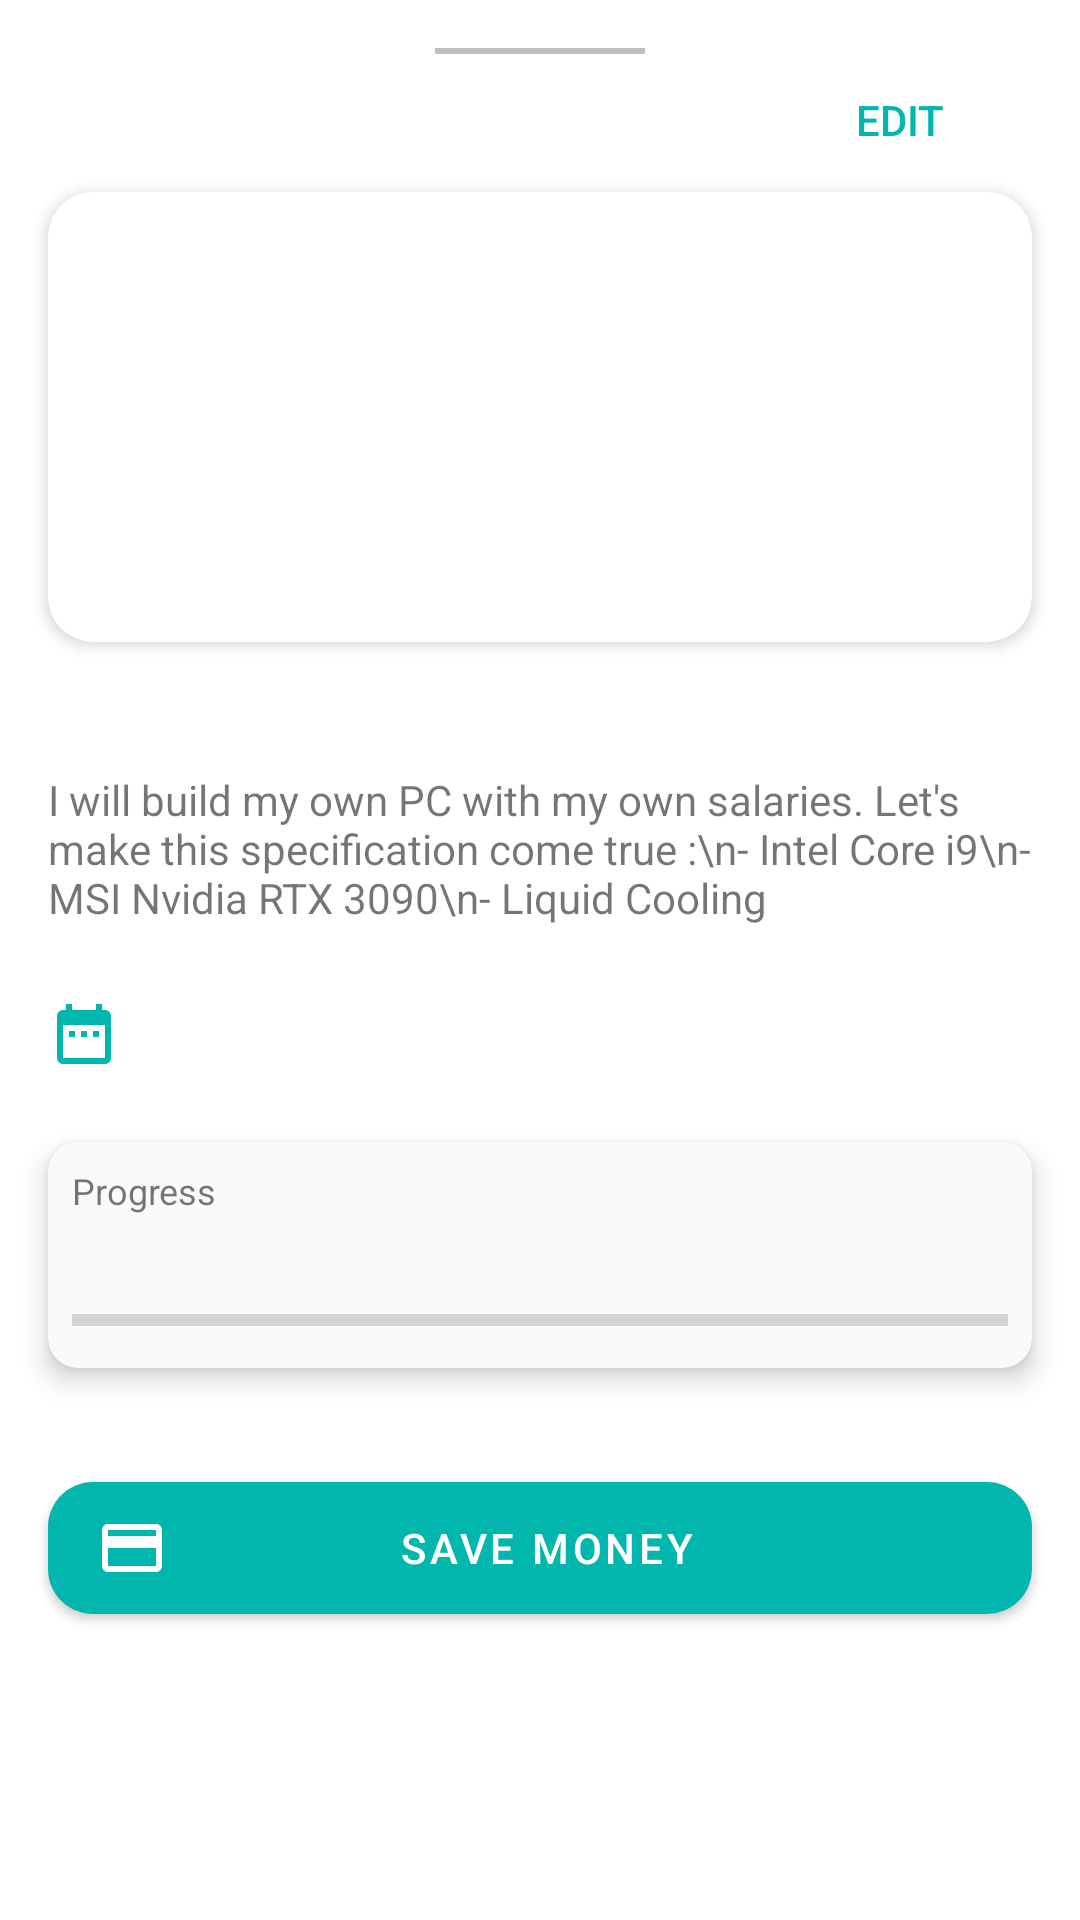

Icon click points for this 1080px×1920px phone screenshot, format (x=x, y=y):
date range: (x=84, y=1034)
